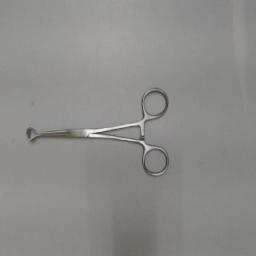Babcock Tissue Forceps: (22, 84, 172, 178)
